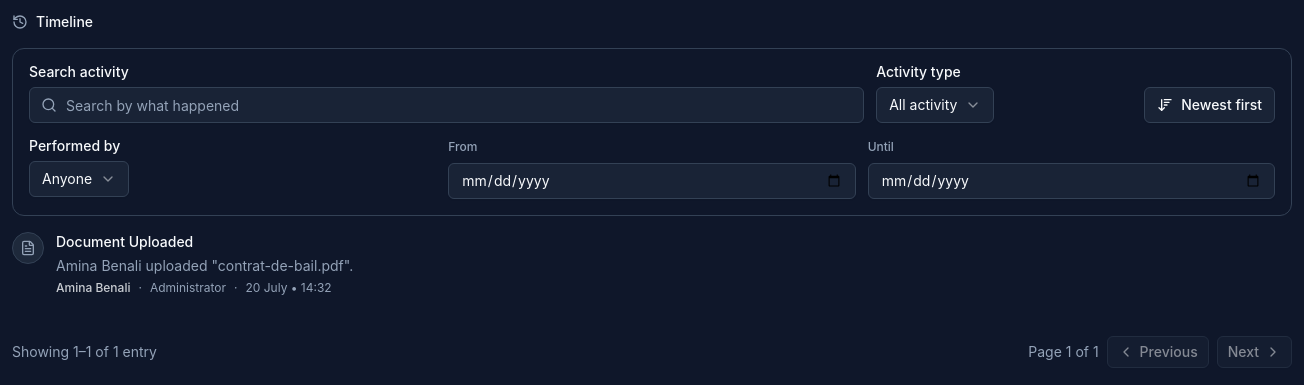
Scenario: CaseTimeline › flips between newest-first and oldest-first
The width and height of the screenshot is (1304, 385).
Expected: the text "Document Uploaded" is shown, [56, 233, 193, 250]
Click the button with aria-label "Sort oldest first" at [1210, 105], box [1144, 87, 1275, 123]
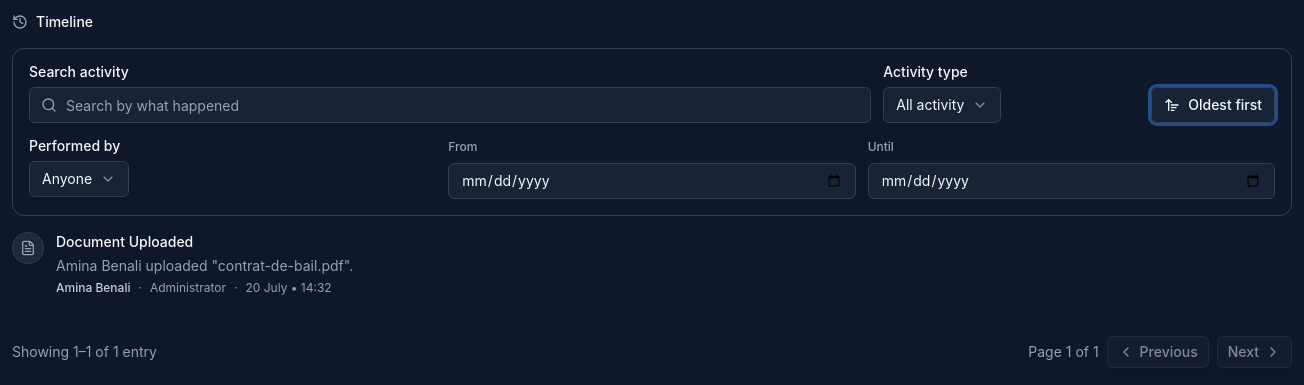
Now the button with aria-label "Sort newest first" is shown, box [1151, 87, 1275, 123]
